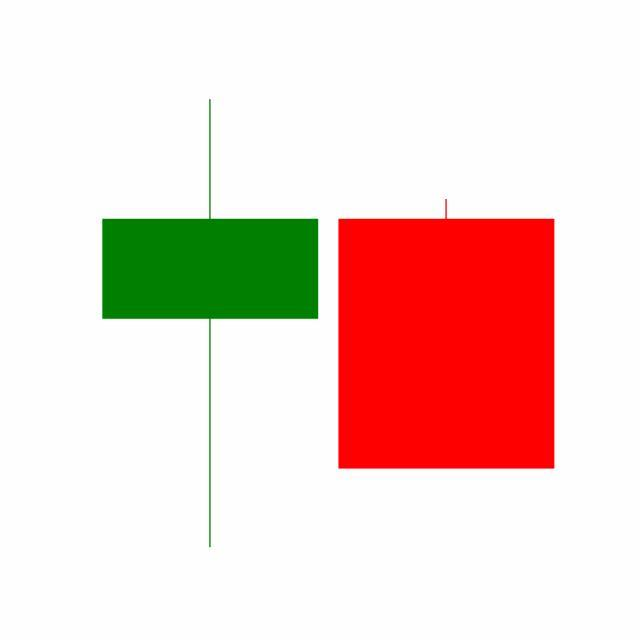Marubozu: (328, 196, 566, 472)
